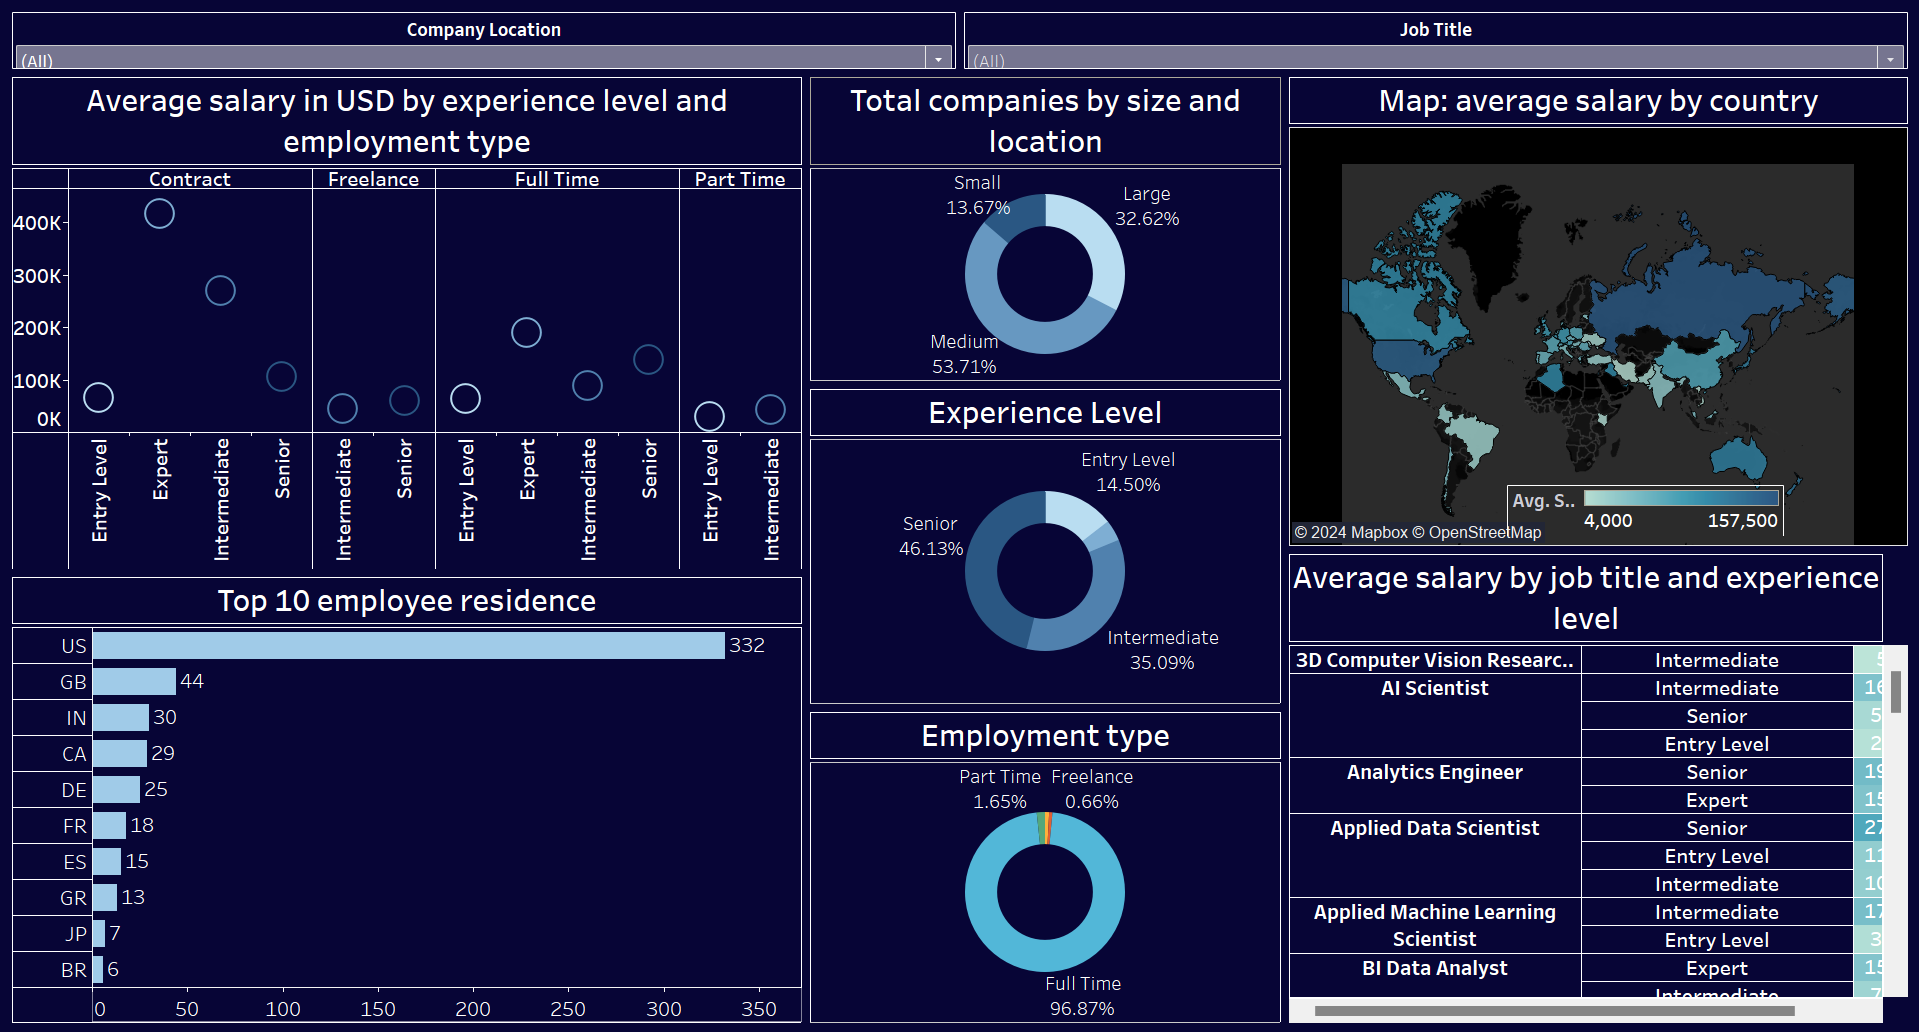

Layout of this report page (visuals, bound fields, positions):
{"tool":"tableau","page":{"name":"Dashboard 1","canvas":[1000,1000],"units":"permille","ordinal":0},"visuals":[{"type":"filter","title":"Employment type","param":"[federated.1t95csi1bhbxb41dzsrgu0nwjk11].[none:company_location:nk]","box":[3.8,6.7,496.2,56.7]},{"type":"filter","title":"Map: average salary by country","param":"[federated.1t95csi1bhbxb41dzsrgu0nwjk11].[none:job_title:nk]","box":[500,6.7,496.2,56.7]},{"type":"worksheet","title":"Average salary in USD by experience level and employment type","mark":"Shape","rows":["salary_in_usd"],"cols":["employment_type","experience_level"],"box":[3.8,69.2,416.2,485]},{"type":"worksheet","title":"Total companies by size and location","mark":"Pie","rows":["Calculation_912541884984188929","Calculation_912541884984188929"],"box":[420,69.2,249.5,302.5]},{"type":"worksheet","title":"Map: average salary by country","mark":"Automatic","box":[669.5,69.2,326.7,462.1]},{"type":"worksheet","title":"Experience Level","mark":"Pie","rows":["Calculation_912541884984188929","Calculation_912541884984188929"],"box":[420,371.7,249.5,312.5]},{"type":"legend","title":"Map: average salary by country","param":"[federated.1t95csi1bhbxb41dzsrgu0nwjk11].[avg:salary_in_usd:qk]","box":[784.8,468.3,144.3,50]},{"type":"worksheet","title":"Average salary by job title and experience level","mark":"Square","rows":["job_title","experience_level"],"box":[669.5,531.2,326.7,462.1]},{"type":"worksheet","title":"Top 10 employee residence","mark":"Automatic","rows":["employee_residence"],"cols":["employee_residence"],"box":[3.8,554.2,416.2,439.2]},{"type":"worksheet","title":"Employment type","mark":"Pie","rows":["Calculation_912541884984188929","Calculation_912541884984188929"],"box":[420,684.2,249.5,309.2]}]}

Visuals, with their boxes on the dashboard's canvas, which has no fixed pixel size, in thousandths of its width and height (x1, y1, x2, y2). These are canvas units, not pixel positions in the 1919x1032 screenshot, which may show the page scaled, cropped or inside an application window:
"Employment type" filter: locate(4, 7, 500, 63)
"Map: average salary by country" filter: locate(500, 7, 996, 63)
"Average salary in USD by experience level and employment type" worksheet (Shape marks): locate(4, 69, 420, 554)
"Total companies by size and location" worksheet (Pie marks): locate(420, 69, 670, 372)
"Map: average salary by country" worksheet: locate(670, 69, 996, 531)
"Experience Level" worksheet (Pie marks): locate(420, 372, 670, 684)
"Map: average salary by country" legend: locate(785, 468, 929, 518)
"Average salary by job title and experience level" worksheet (Square marks): locate(670, 531, 996, 993)
"Top 10 employee residence" worksheet: locate(4, 554, 420, 993)
"Employment type" worksheet (Pie marks): locate(420, 684, 670, 993)
